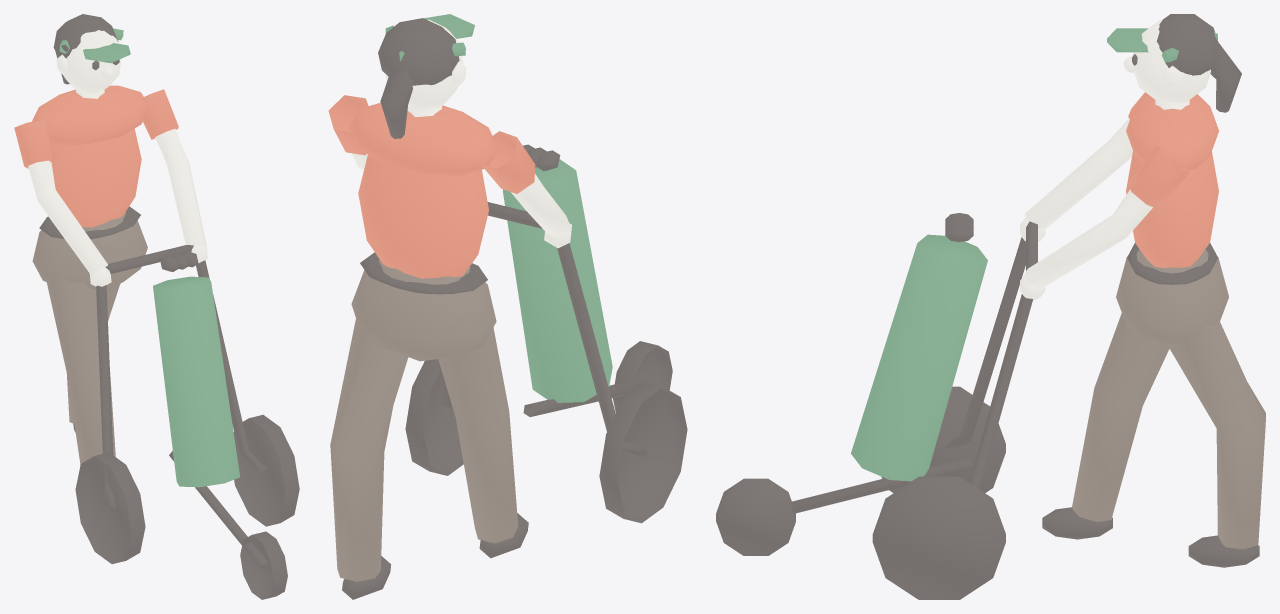
The model's file is Blender_Walker_2.glb.
3 renders of one model, left to right at view 1: azimuth 30°, elevation 25°; view 2: azimuth 150°, elevation 25°; view 3: azimuth 270°, elevation 25°, orthographic. The views are drawn at different scales.
Visible parts, largest first — view 1: Blender_Walker_2; view 2: Blender_Walker_2; view 3: Blender_Walker_2.
Boxes of the visible parts, x1=… form: Blender_Walker_2: x1=14, y1=14, x2=299, y2=599; Blender_Walker_2: x1=328, y1=14, x2=687, y2=599; Blender_Walker_2: x1=716, y1=14, x2=1265, y2=599.
Size of the model in its own units: 0.7 by 1.78 by 1.65.
